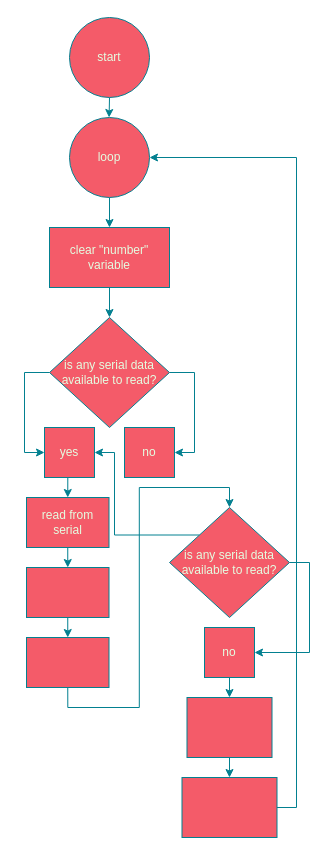
Some shapes in this 335 by 855 pixel diagram are drawn without their labels. Each missing label, with the centre of its shape:
"convert to a digit (a)" belongs at [67,592].
"multiply final number by 2" belongs at [229,727].
"number × 10 + digit (a)" belongs at [67,662].
"print result into the serial monitor" belongs at [229,807].
